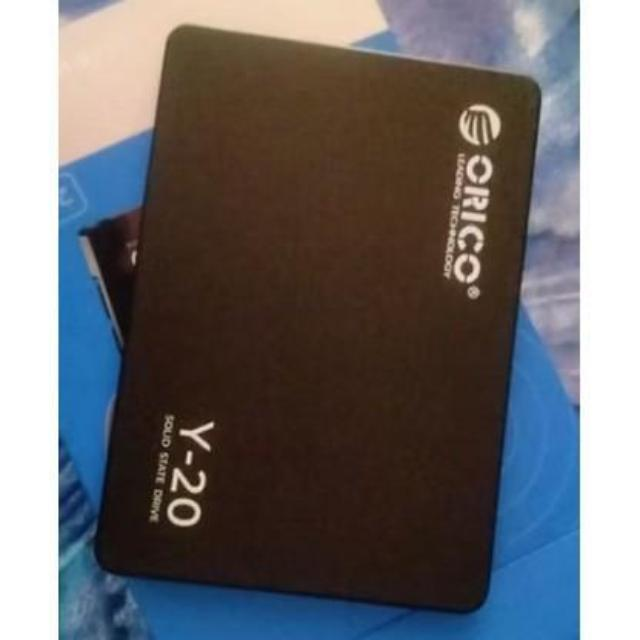DISK: (101, 20, 541, 618)
